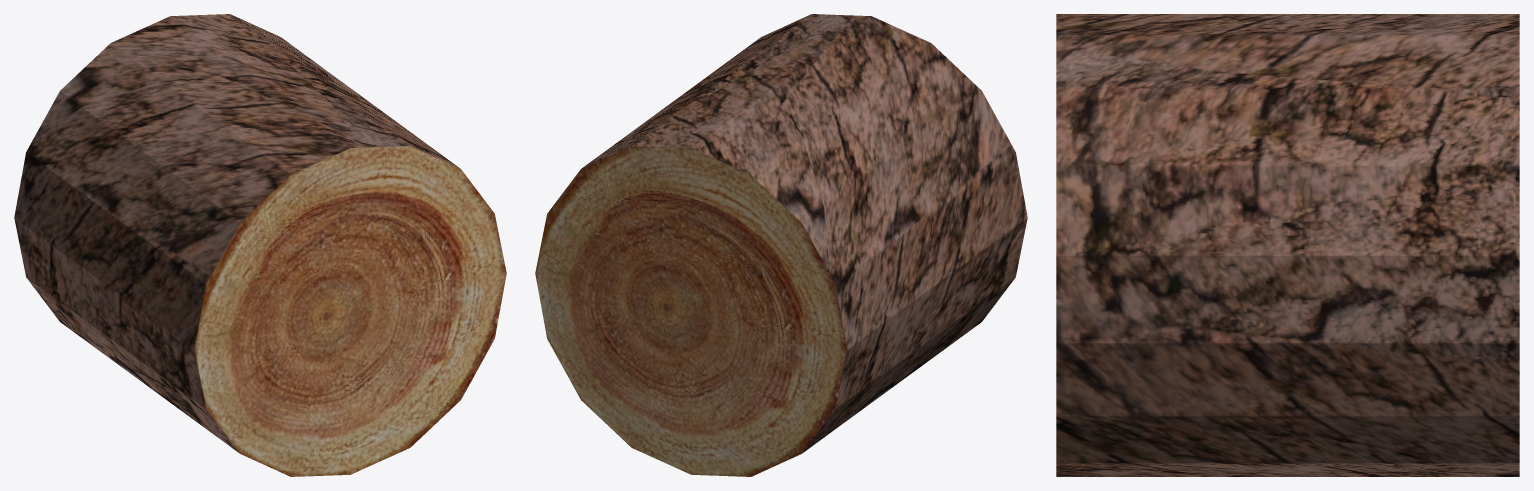
The model's file is tree-trunk.glb.
3 views of the same model, side by side, from view 1: azimuth 30°, elevation 25°; view 2: azimuth 150°, elevation 25°; view 3: azimuth 270°, elevation 25° (orthographic). The views are drawn at different scales.
Visible parts, largest first — view 1: Trunk; view 2: Trunk; view 3: Trunk.
Boxes of the visible parts, x1,y1,x2,y2 form: Trunk: [14, 14, 506, 476]; Trunk: [535, 14, 1027, 476]; Trunk: [1056, 14, 1519, 476].
Bounding box in the file's own units: 1 × 1 × 1.
1 material, 1 textured.
